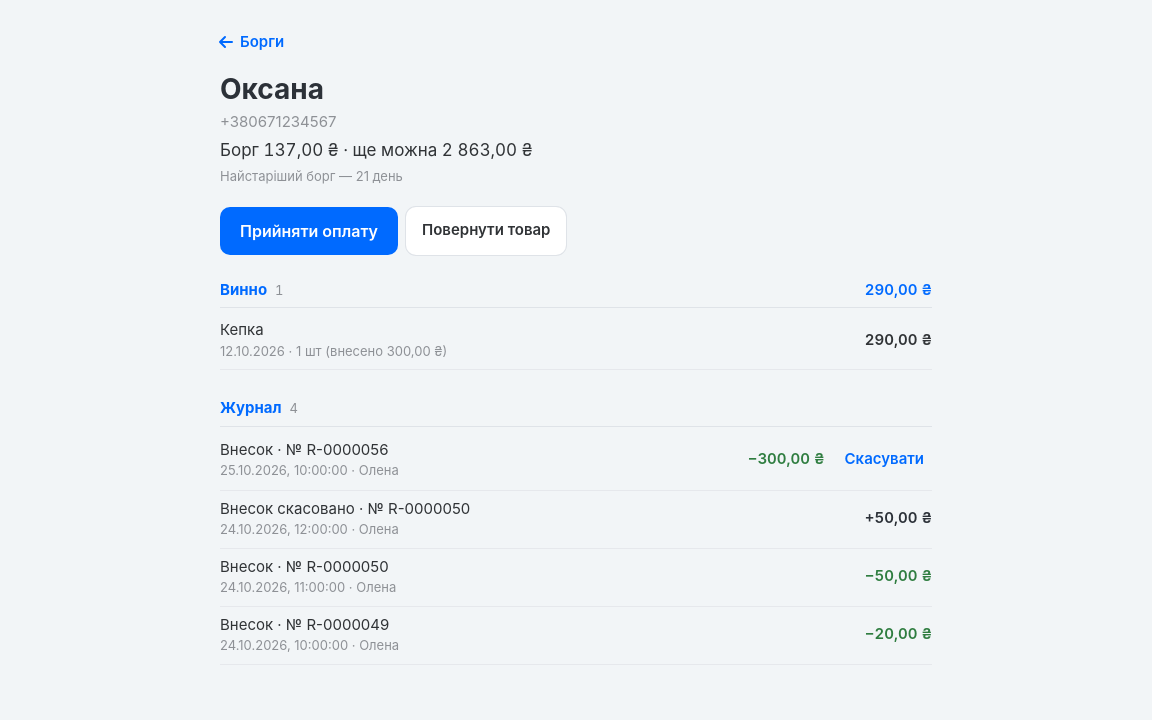
Scenario: one customer’s statement › undoes a «внесок» toward goods still open, and offers nothing for one already undone or closed
Expected: the heading "Оксана" is shown, 220,72 -> 324,106
Click the button "Скасувати" at x=884, y=460, box 836,438 -> 932,482
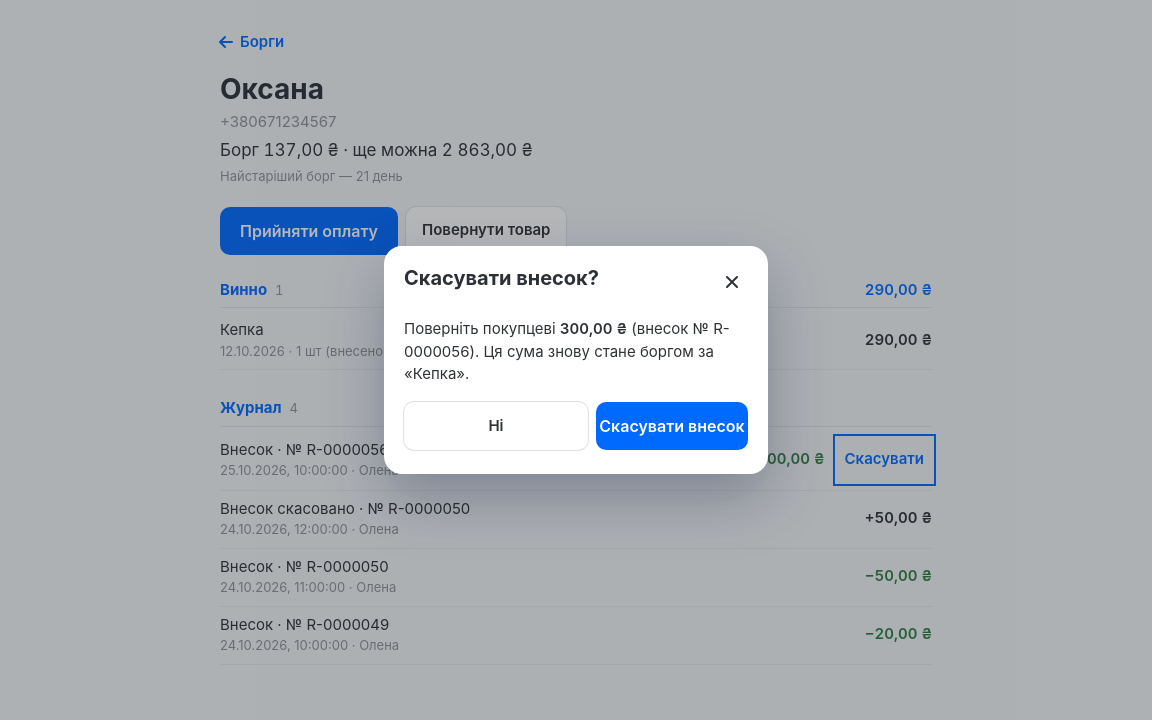
Result: the dialog with test id "debts-undo-prepay" shows "знову стане боргом за «Кепка»" at 384,246 -> 768,474
Click the button "Скасувати внесок" at x=672, y=426, box 596,402 -> 748,450
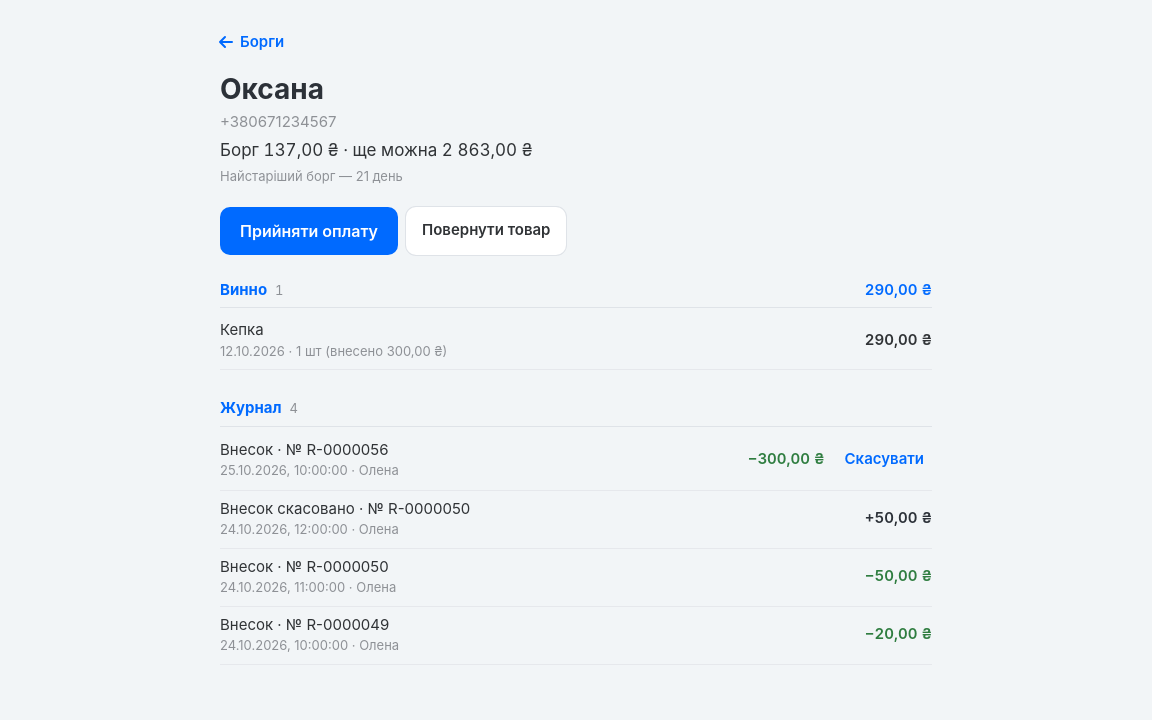
Result: the dialog with test id "debts-undo-prepay" is gone
